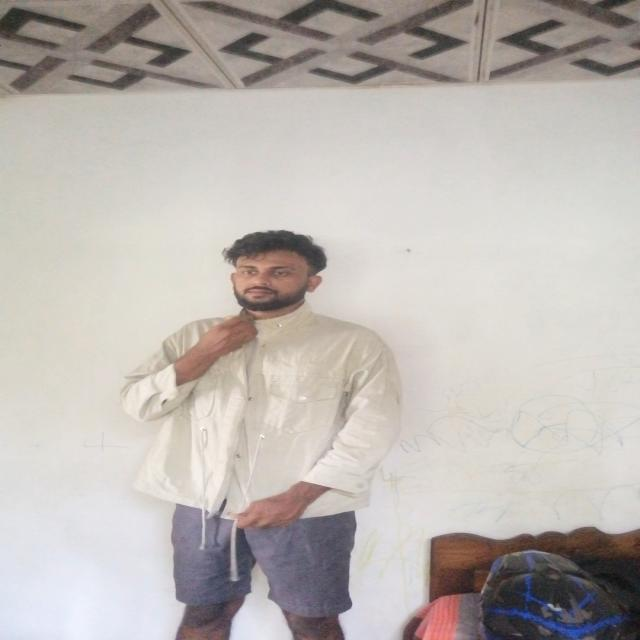Jacket_Wearer: (110, 306, 426, 547)
Person: (120, 229, 428, 639)
